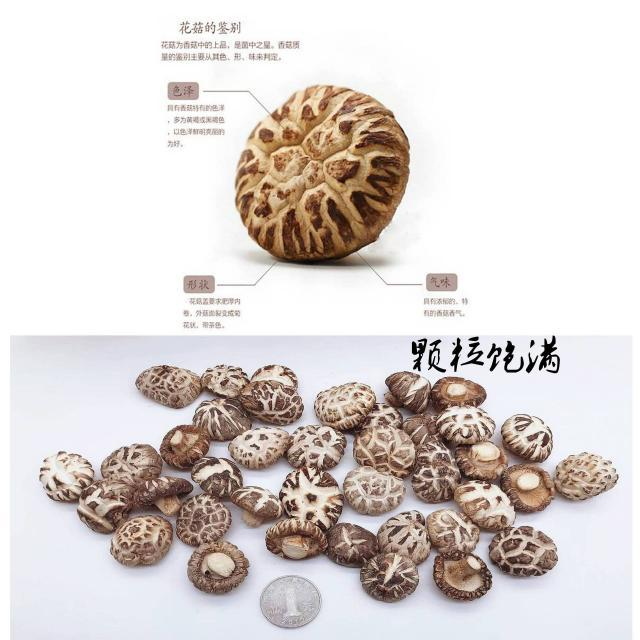Lentinus edodes: (39, 356, 618, 629), (234, 84, 404, 267)
